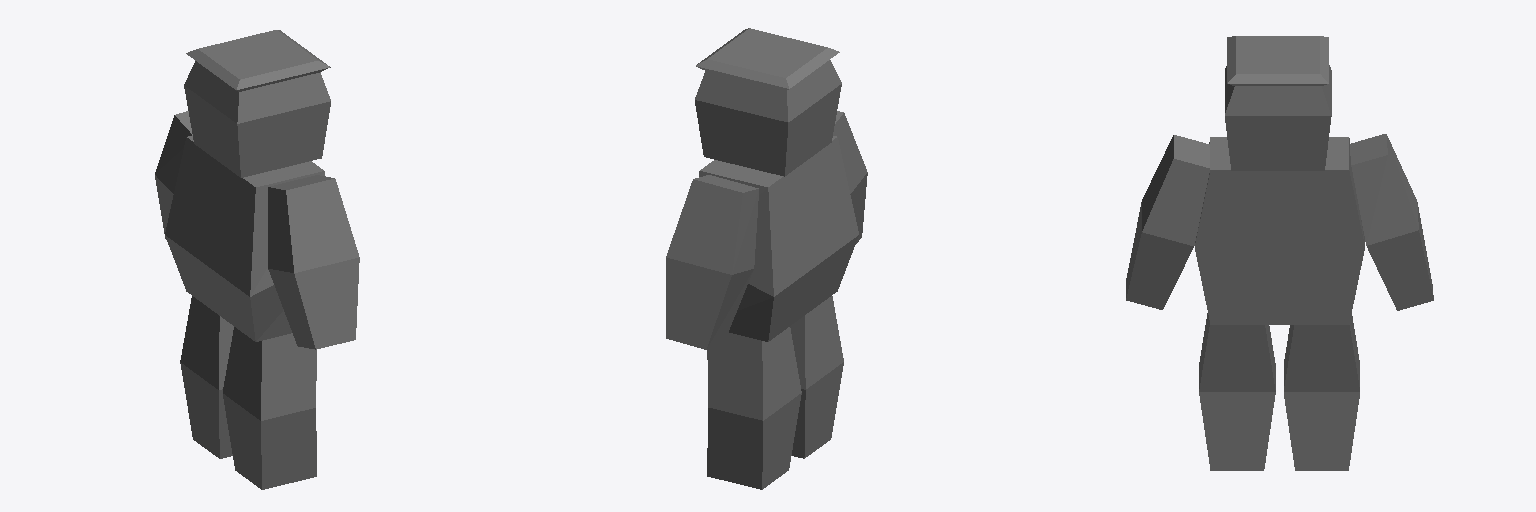
The model's file is Dealer.obj.
The picture shows the model from 3 angles: view 1: azimuth 30°, elevation 25°; view 2: azimuth 150°, elevation 25°; view 3: azimuth 270°, elevation 25°; orthographic projection.
Visible parts, largest first — view 1: pCube18 polySurface2, pCube18 polySurface1, pCube18 polySurface5, pCube18 polySurface3, pCube18 polySurface6, polySurface4 pCube18; view 2: pCube18 polySurface2, pCube18 polySurface1, pCube18 polySurface6, polySurface4 pCube18, pCube18 polySurface3, pCube18 polySurface5; view 3: pCube18 polySurface1, pCube18 polySurface2, pCube18 polySurface3, pCube18 polySurface6, pCube18 polySurface5, polySurface4 pCube18.
Boxes of the visible parts, x1,y1,x2,y2 form: pCube18 polySurface2: [184, 30, 330, 177]; pCube18 polySurface1: [165, 135, 324, 341]; pCube18 polySurface5: [268, 175, 359, 349]; pCube18 polySurface3: [223, 327, 316, 489]; pCube18 polySurface6: [180, 296, 233, 458]; polySurface4 pCube18: [155, 111, 192, 239]; pCube18 polySurface2: [695, 28, 841, 176]; pCube18 polySurface1: [699, 136, 858, 341]; pCube18 polySurface6: [707, 327, 801, 489]; polySurface4 pCube18: [666, 175, 758, 349]; pCube18 polySurface3: [790, 296, 843, 458]; pCube18 polySurface5: [833, 111, 867, 243]; pCube18 polySurface1: [1195, 137, 1364, 324]; pCube18 polySurface2: [1225, 36, 1331, 170]; pCube18 polySurface3: [1199, 313, 1275, 470]; pCube18 polySurface6: [1284, 314, 1359, 470]; pCube18 polySurface5: [1126, 135, 1209, 309]; polySurface4 pCube18: [1350, 134, 1433, 310].
Size of the model in its own units: 0.5401 by 2.14 by 1.48.